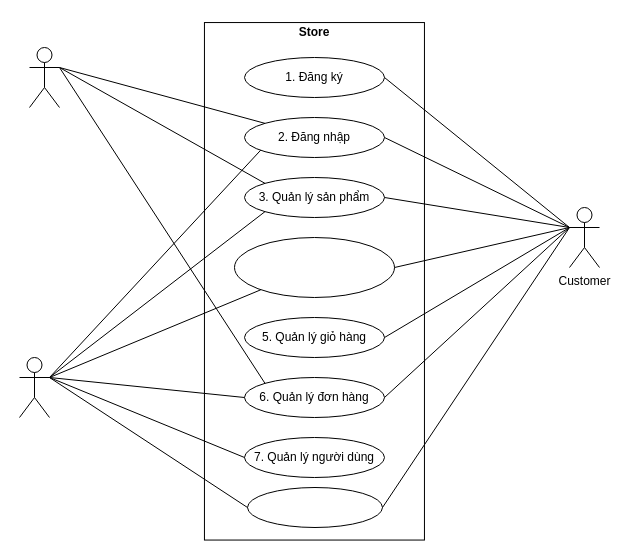
This 628x558 diagram has some shape labels left out. The shapes that lost their labels are listed below. From the top down, each one's centre as x and y in pixels, then its label:
the point at 44,77: Staff
the point at 314,267: 4. Quản lý danh mục sản phẩm
the point at 34,387: Admin
the point at 314,507: 8. Chat
